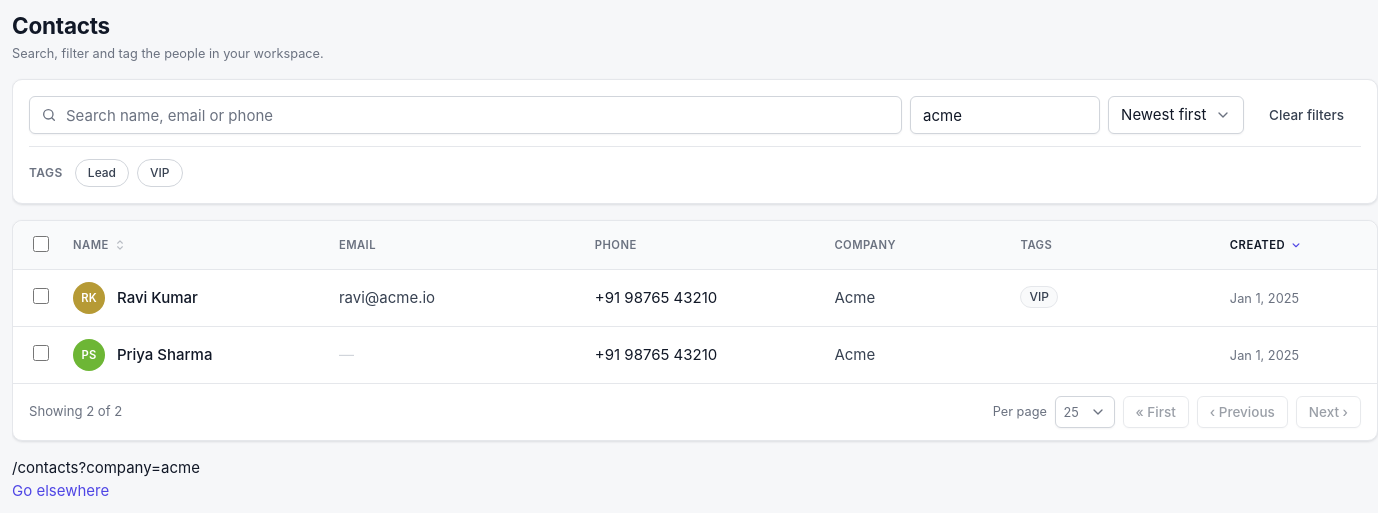
Test: ContactsPage › resets the company box when filters are cleared from outside it
Expected: the field named "Filter by company" holds "acme", [910, 96, 1100, 134]
Step 1. Click the button "Clear filters" → (1307, 115), box [1252, 96, 1361, 134]
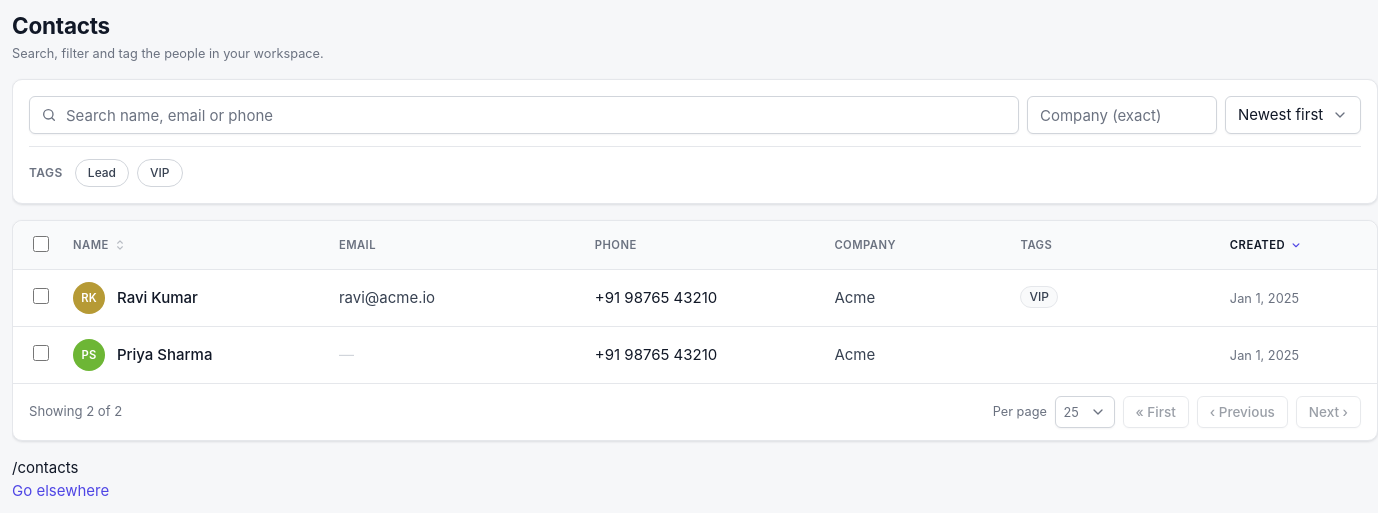
Expected: the text with test id "location" reads "/contacts", [12, 458, 78, 477]
Result: the field named "Filter by company" is empty at [1027, 96, 1217, 134]
